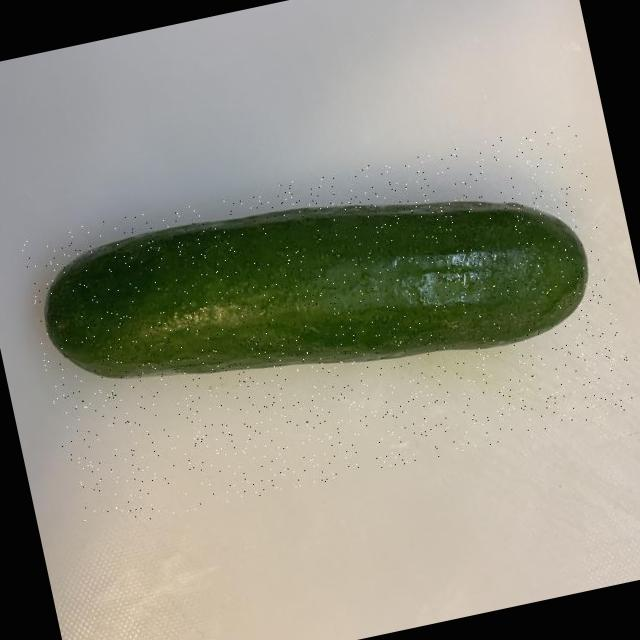Cucumber: (24, 140, 598, 438)
